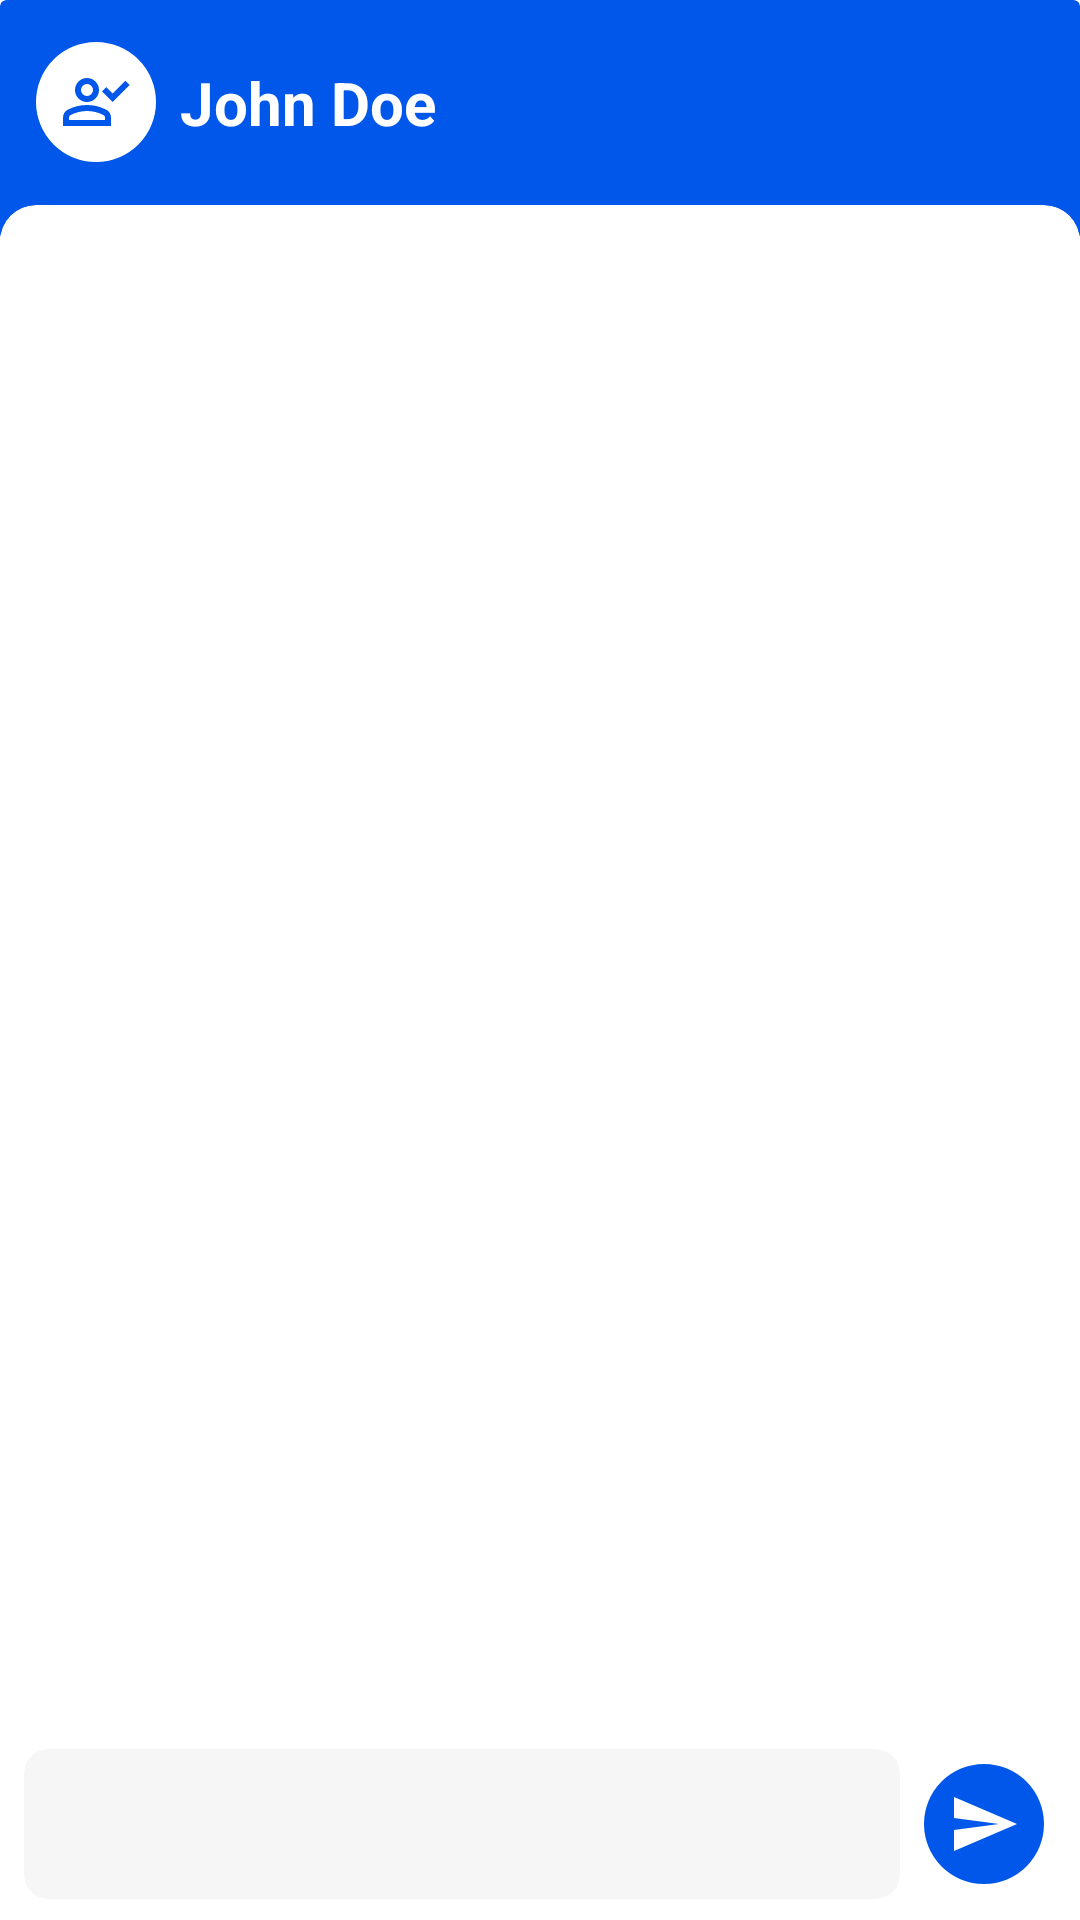

Screen size 1080×1920. Icon name, then its center in pixels as (x=x, y=y):
person check: (x=96, y=102)
send: (x=984, y=1824)
